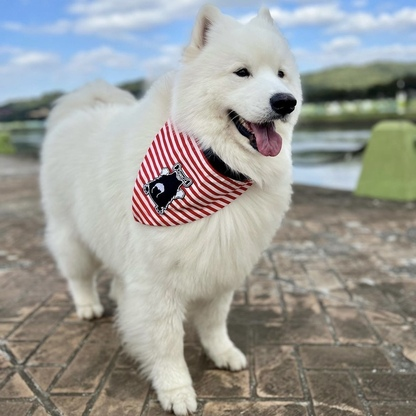samoyed: (32, 1, 314, 416)
